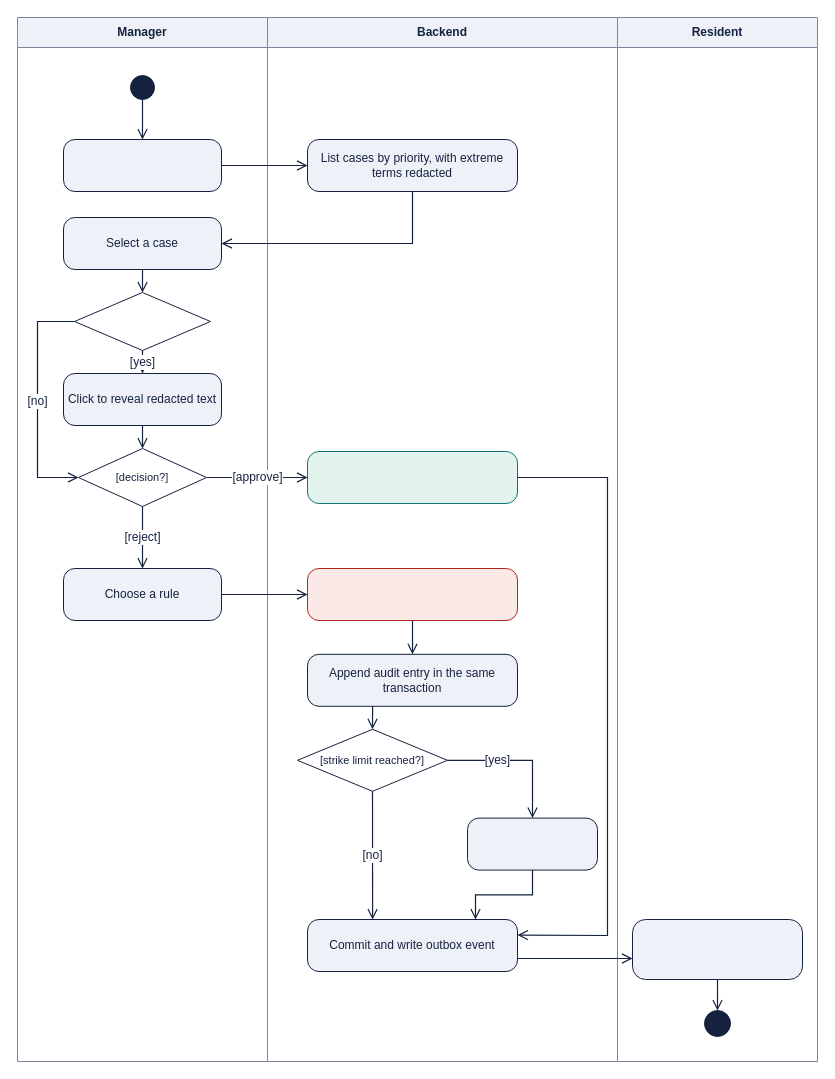
This 835x1079 diagram has some shape labels left out. The shapes that lost their labels are listed below. From the top down, each one's centre as x and y in pixels, then its label:
point (142, 165): Open moderation queue
point (142, 321): [needs full text?]
point (412, 477): Set Published; log AI false positive if the AI held it
point (412, 594): Set Rejected, record violation
point (532, 843): Apply read-only timeout
point (717, 949): Receive message naming the rule and how to appeal
